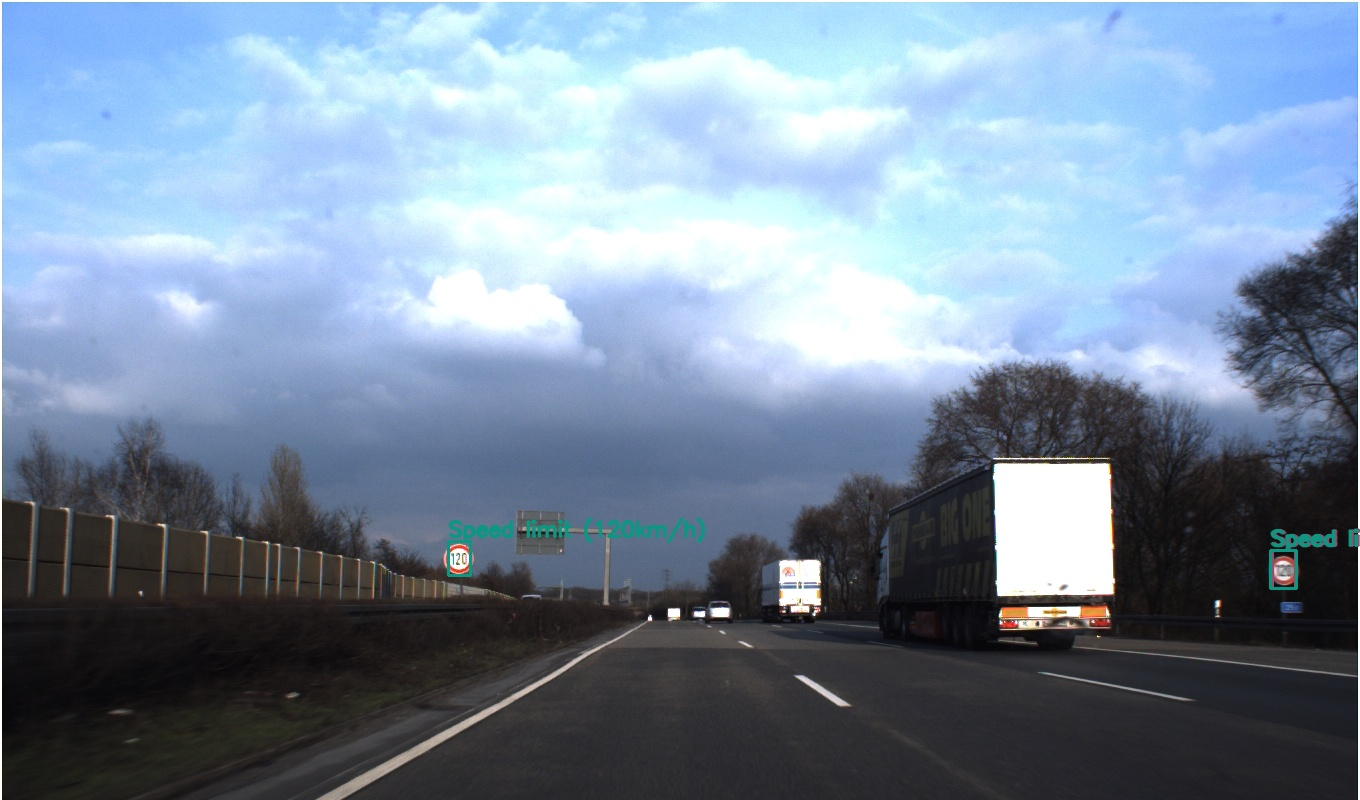Keep left: (892, 476, 1006, 592)
